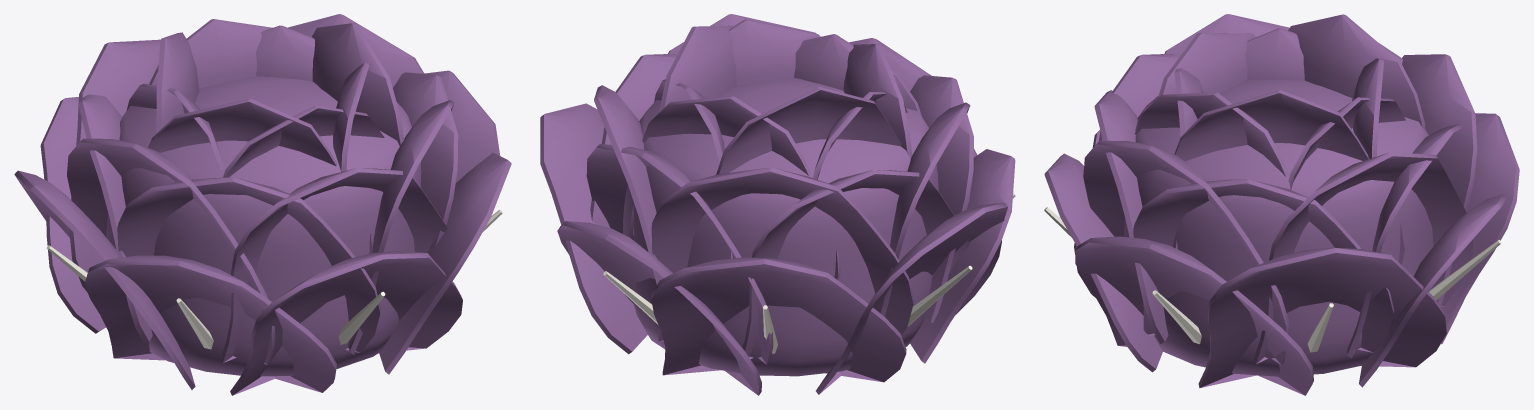
Rendered from fresh-produce-and-groceries-cabbage-red-2c78d247__24365.glb.
3 views of the same model, side by side, from view 1: azimuth 30°, elevation 25°; view 2: azimuth 150°, elevation 25°; view 3: azimuth 270°, elevation 25° (orthographic).
Parts seen in each view (by area): view 1: cabbage-red; view 2: cabbage-red; view 3: cabbage-red.
Boxes of the visible parts, <box> form: cabbage-red: <box>14,14,511,395</box>; cabbage-red: <box>540,14,1015,395</box>; cabbage-red: <box>1044,14,1519,395</box>.
Size of the model in its own units: 0.2393 by 0.1599 by 0.2279.
